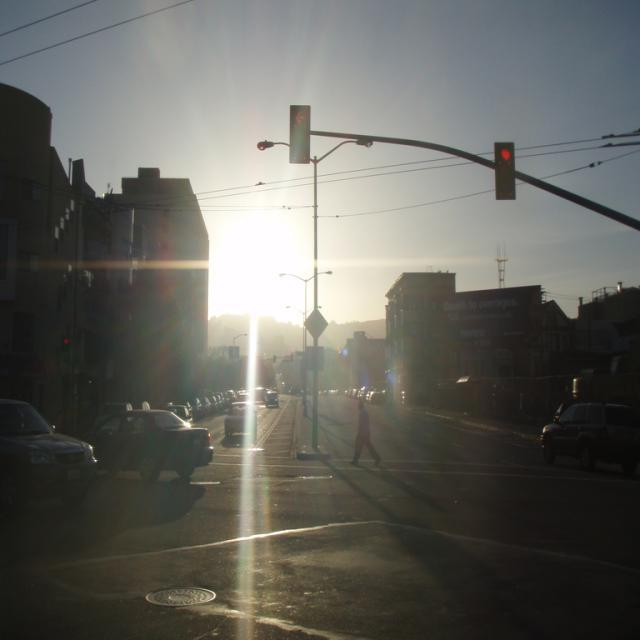traffic light: (495, 141, 517, 201), (290, 106, 311, 164)
